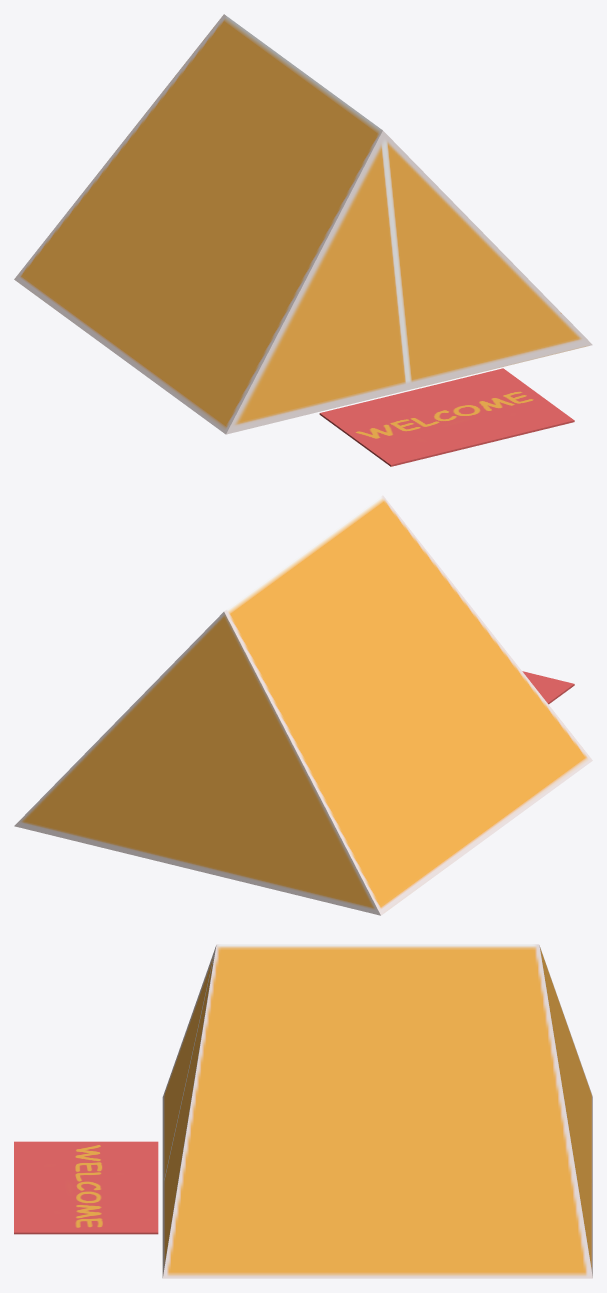
Rendered from tent.fbx.
3 views of the same model, one above another, from view 1: azimuth 30°, elevation 25°; view 2: azimuth 150°, elevation 25°; view 3: azimuth 270°, elevation 25° (orthographic).
Parts seen in each view (by area): view 1: Cube; view 2: Cube; view 3: Cube.
Part boxes in pixels (x1,y1,x2,y2): Cube: (14,14,592,466); Cube: (14,495,592,915); Cube: (14,944,592,1278).
Size of the model in its own units: 400 by 251 by 538.
